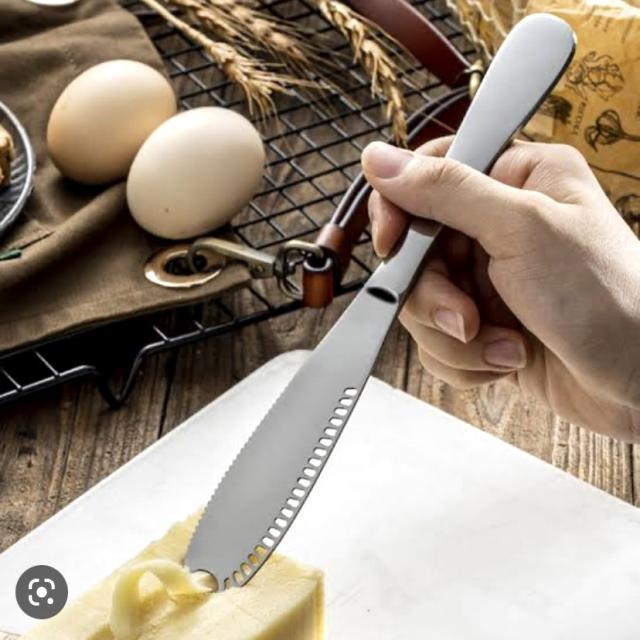knife: (114, 11, 640, 640)
